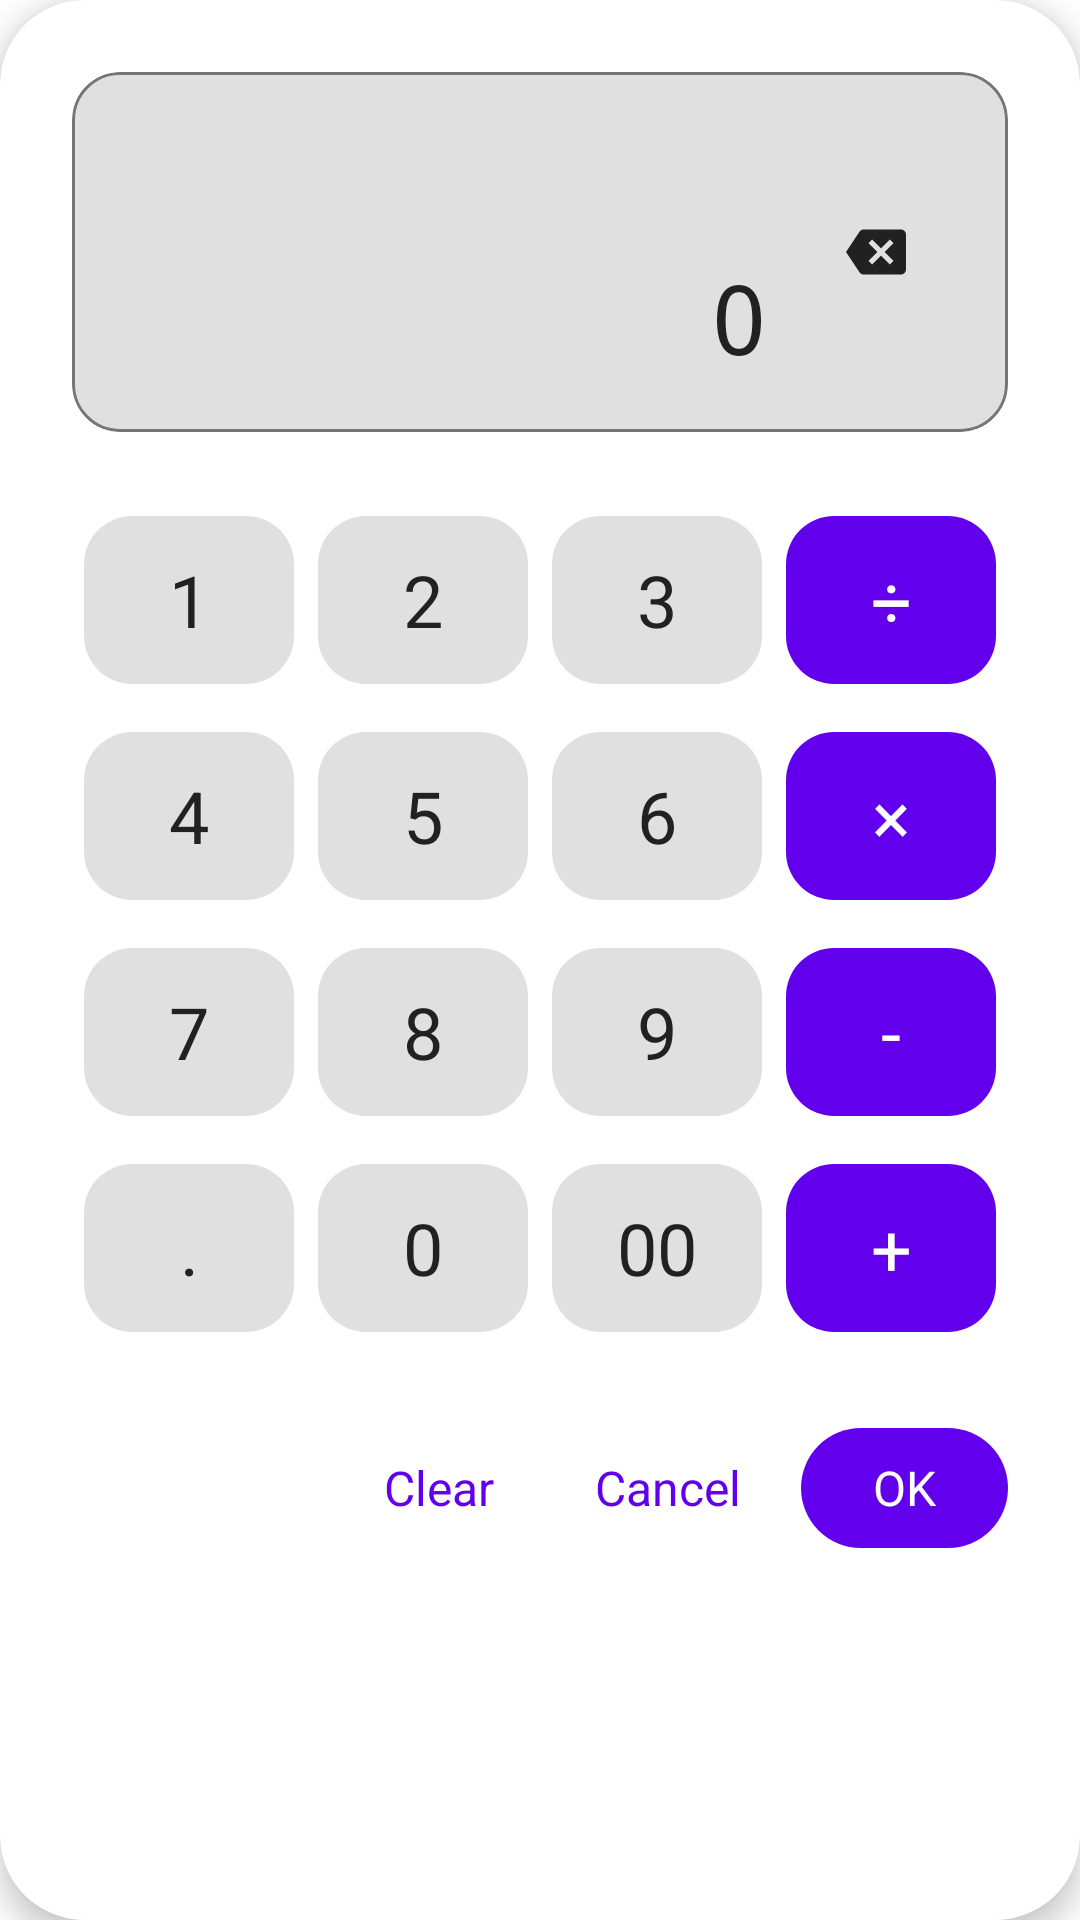

Screen size 1080w x 1920h. Icon name, then its center in pixels as point (x, y):
backspace: point (876, 252)
